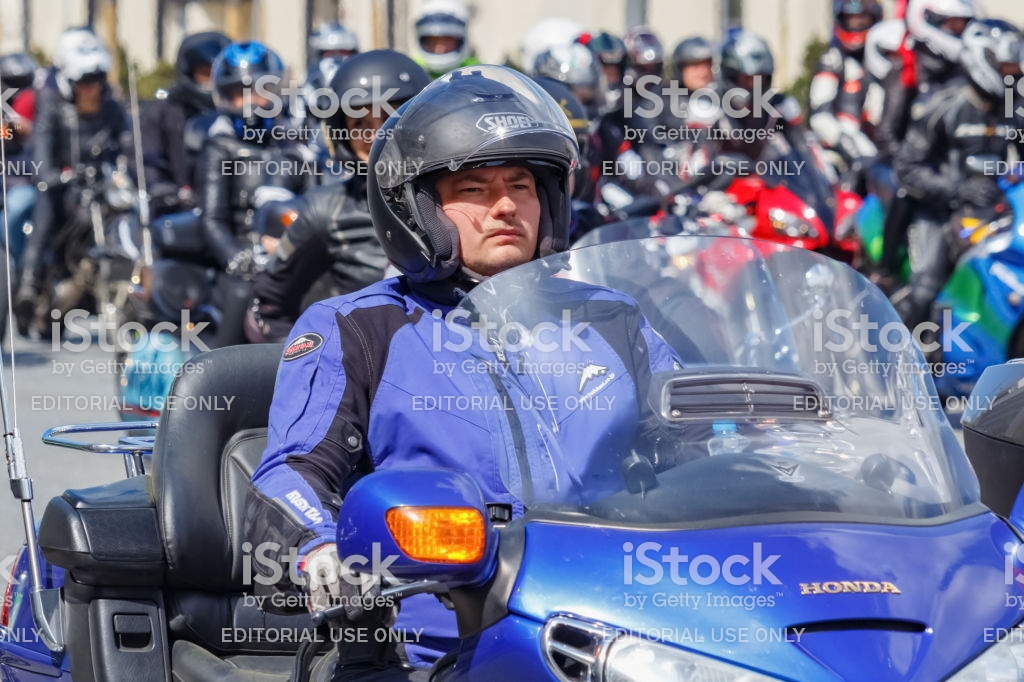helmet: (373, 89, 594, 270)
